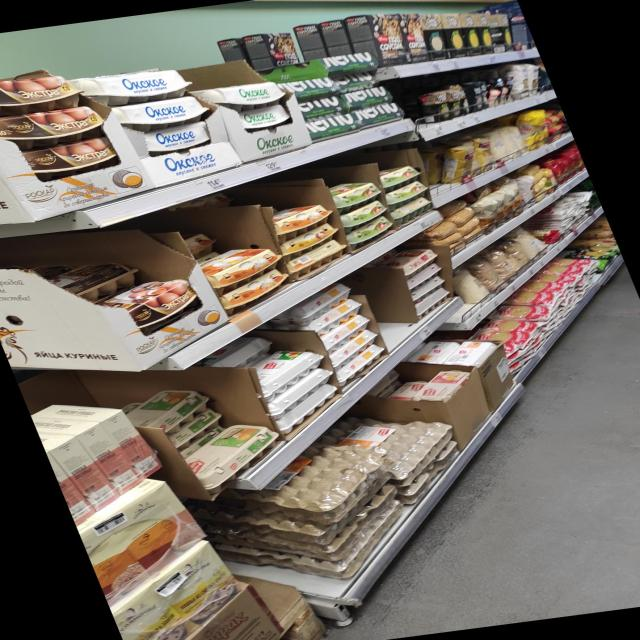organic waste: (0, 104, 115, 156), (69, 64, 197, 108), (0, 69, 90, 130), (110, 95, 215, 133), (205, 79, 289, 113), (140, 122, 214, 156), (234, 103, 294, 132)
